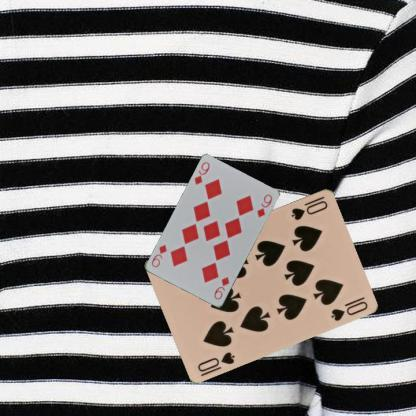10s: (288, 192, 330, 222), (196, 349, 236, 374)
9d: (192, 160, 211, 186), (212, 274, 230, 301)
